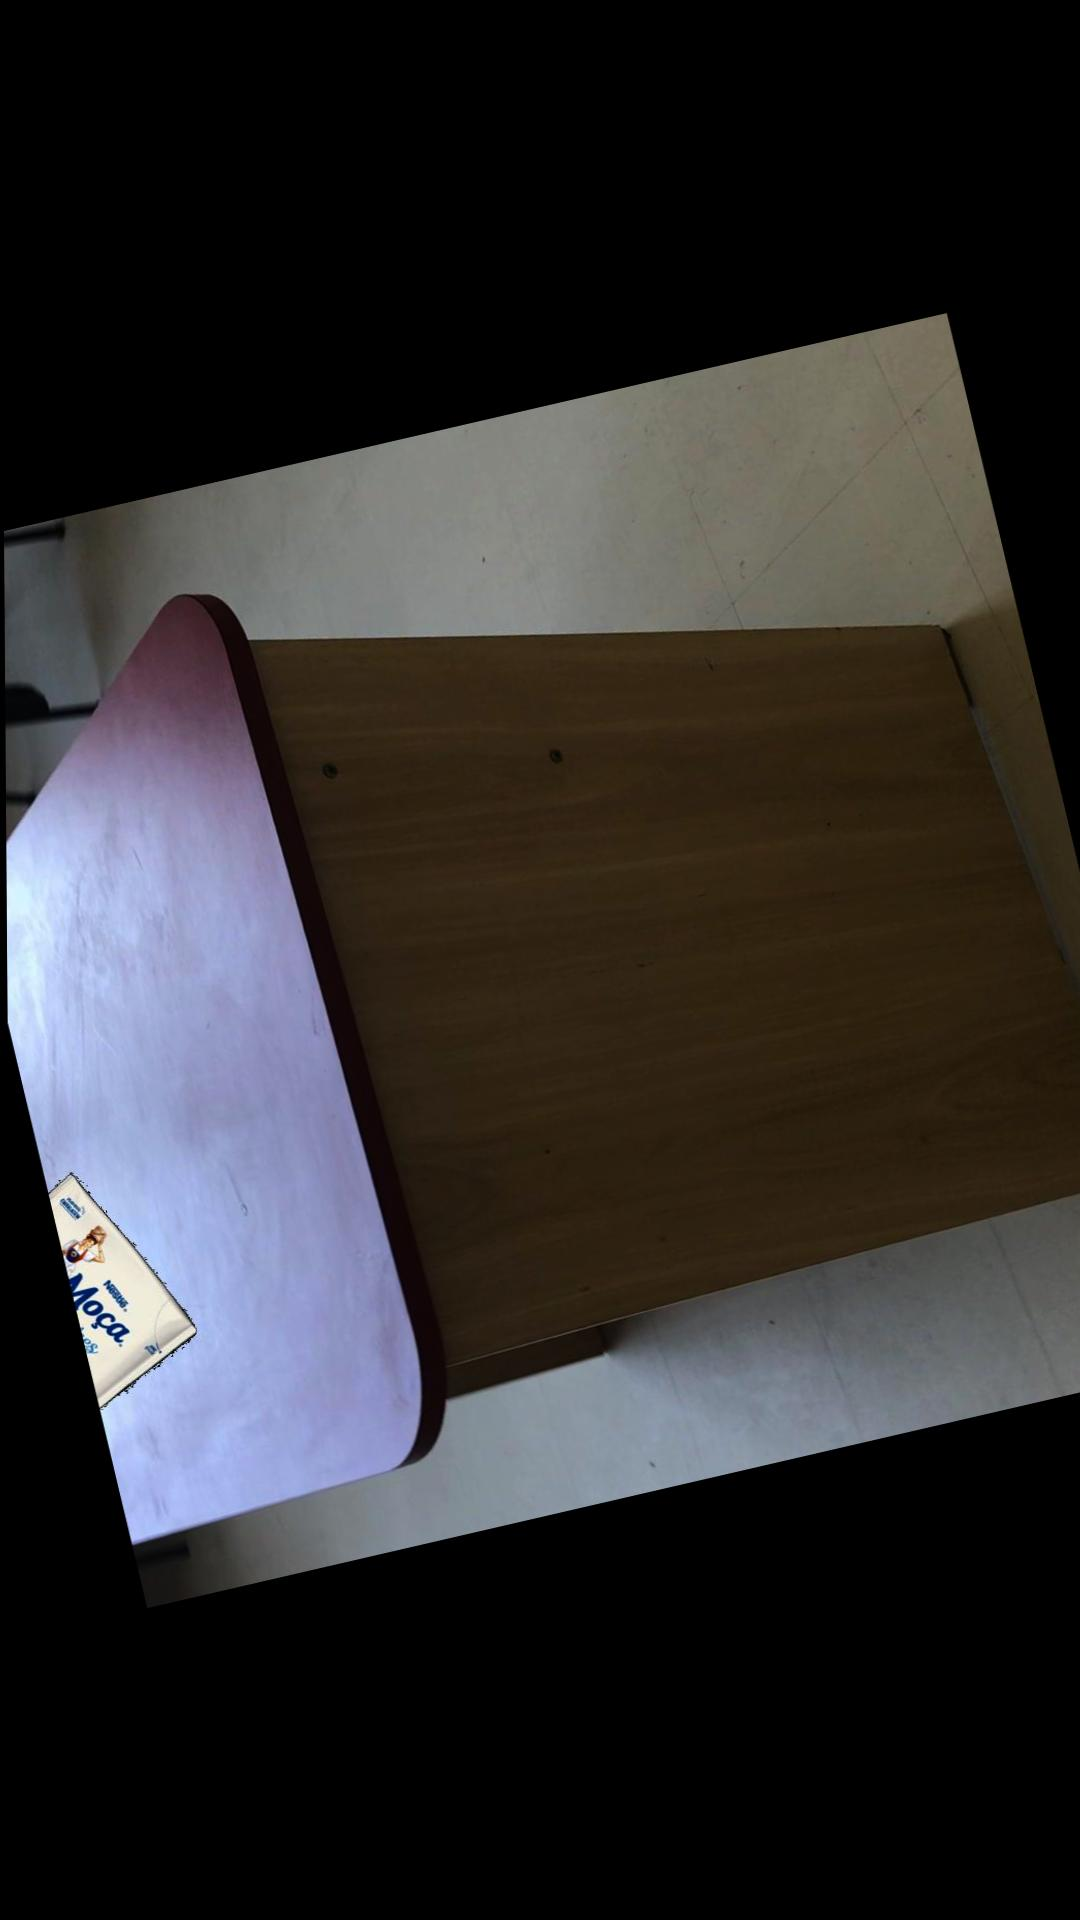corn flakes: (46, 1171, 193, 1406)
